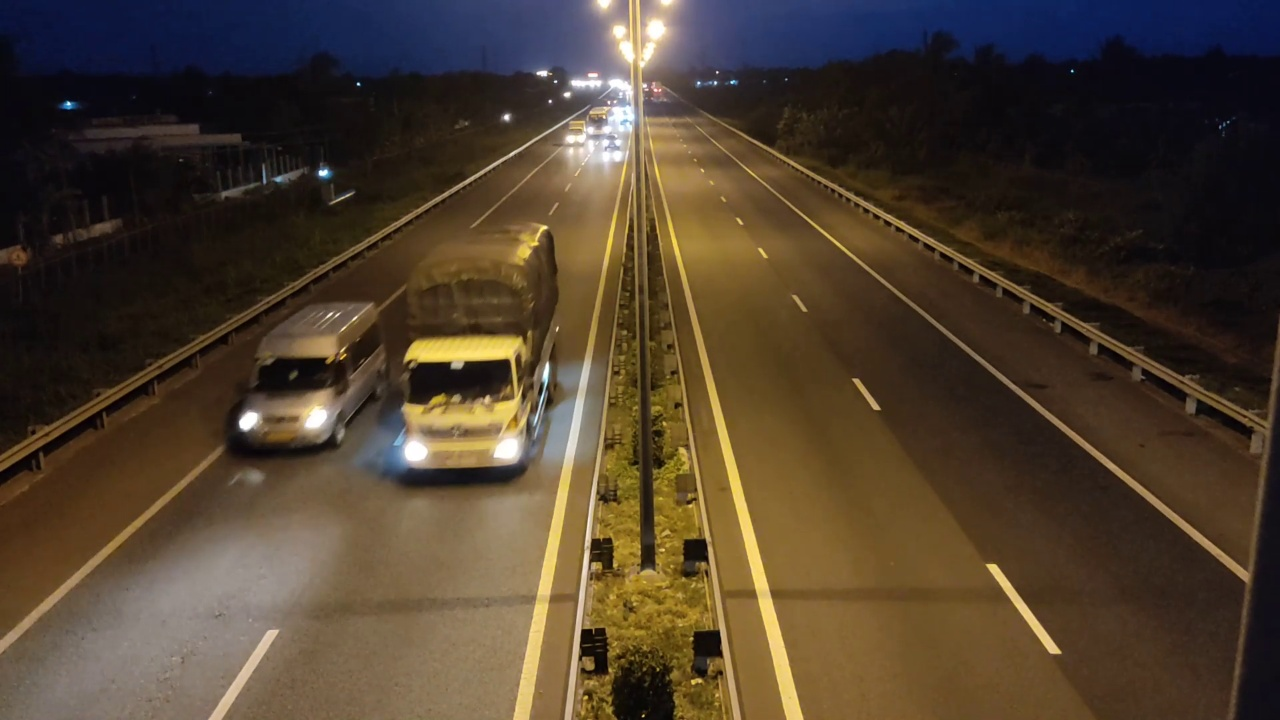bus: (397, 221, 561, 479)
car: (234, 298, 387, 457)
truck: (396, 220, 562, 481)
